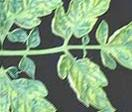Tomato leaf mosaic virus: (54, 56, 123, 112), (0, 0, 78, 41), (49, 0, 119, 45), (0, 68, 66, 112), (94, 20, 132, 73)
